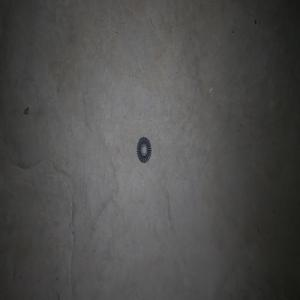Washer: (136, 136, 151, 163)
